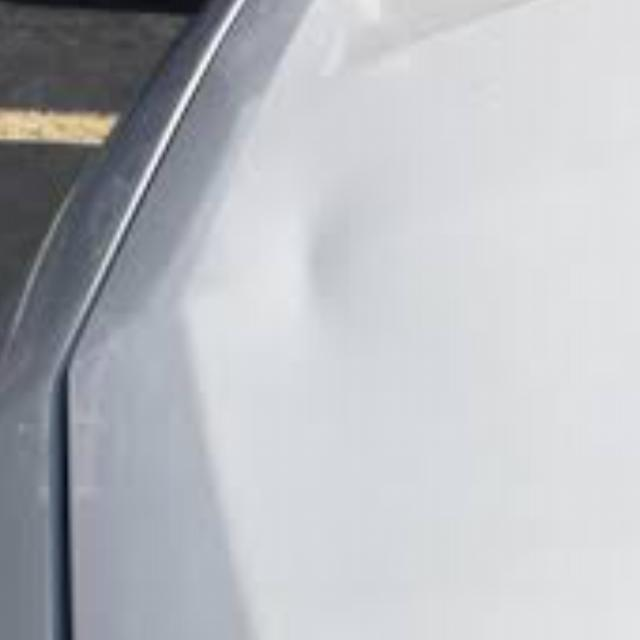dents: (266, 194, 364, 332)
